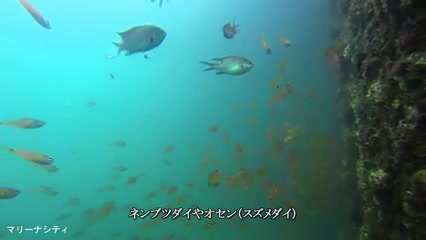mezina: (101, 23, 167, 59), (194, 49, 255, 84)
